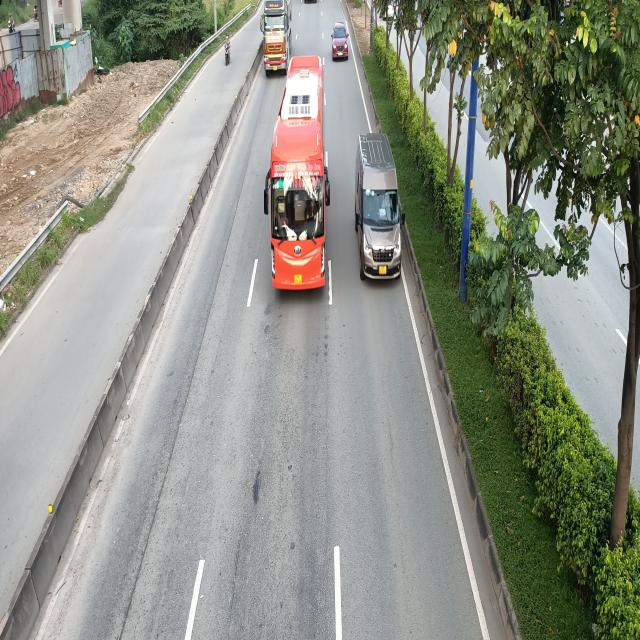car: (332, 23, 350, 61)
coach: (265, 54, 330, 291)
container: (262, 0, 292, 75)
van: (354, 133, 403, 282)
